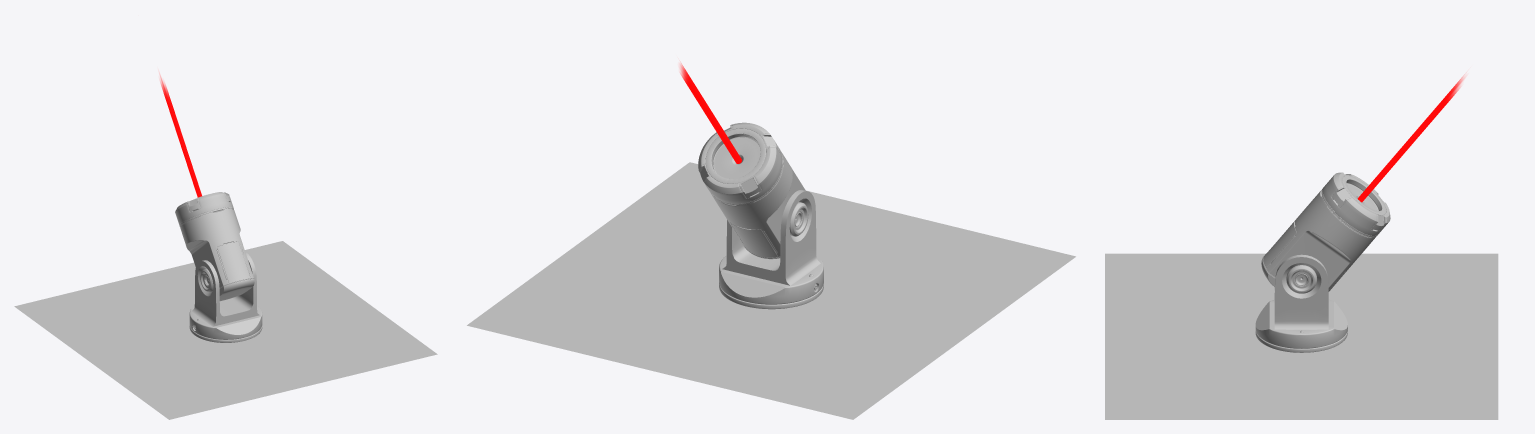
The picture shows the model from 3 angles, left to right: view 1: azimuth 30°, elevation 25°; view 2: azimuth 150°, elevation 25°; view 3: azimuth 270°, elevation 25°; orthographic projection. The views are drawn at different scales.
Visible parts, largest first — view 1: crate_41_floor_low, light_1.001_low.001, light_1.003_low.001, light_1.012_low.001, light_1.005_low.001, light_1.011_low.001, light_1.008_low.001; view 2: crate_41_floor_low, light_1.001_low.001, light_1.003_low.001, light_1.007_low.001, light_1.005_low.001, light_1.011_low.001, light_1.012_low.001, light_1.004_low.001, light_1.010_low.001; view 3: crate_41_floor_low, light_1.001_low.001, light_1.003_low.001, light_1.005_low.001, light_1.011_low.001, light_1.007_low.001, light_1.002_low.001, light_1.012_low.001, light_1.010_low.001, light_1.004_low.001.
Boxes of the visible parts, x1,y1,x2,y2 form: crate_41_floor_low: (14,241,437,419); light_1.001_low.001: (189,252,262,339); light_1.003_low.001: (180,208,253,287); light_1.012_low.001: (217,241,250,283); light_1.005_low.001: (175,192,233,224); light_1.011_low.001: (160,75,201,197); light_1.008_low.001: (219,279,254,301); crate_41_floor_low: (467,162,1075,419); light_1.001_low.001: (719,190,823,304); light_1.003_low.001: (711,151,805,256); light_1.007_low.001: (705,128,765,183); light_1.005_low.001: (698,122,782,203); light_1.011_low.001: (680,63,741,163); light_1.012_low.001: (730,222,777,257); light_1.004_low.001: (698,124,779,198); light_1.010_low.001: (719,283,823,309); crate_41_floor_low: (1105,253,1498,419); light_1.001_low.001: (1255,254,1347,348); light_1.003_low.001: (1266,190,1375,290); light_1.005_low.001: (1322,173,1390,235); light_1.011_low.001: (1357,76,1463,202); light_1.007_low.001: (1342,175,1386,214); light_1.002_low.001: (1286,265,1316,293); light_1.012_low.001: (1263,221,1348,291); light_1.010_low.001: (1255,330,1347,352); light_1.004_low.001: (1331,172,1386,231).
Bounding box in the file's own units: 1081 × 977 × 1143.
